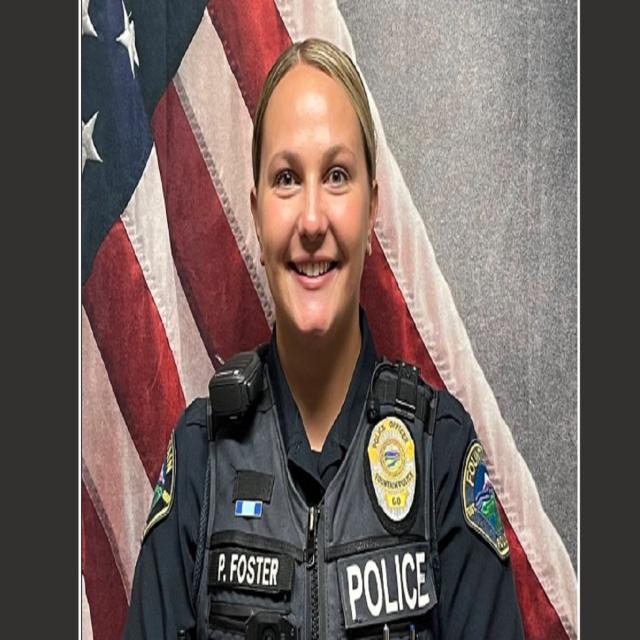police: (120, 28, 514, 640)
